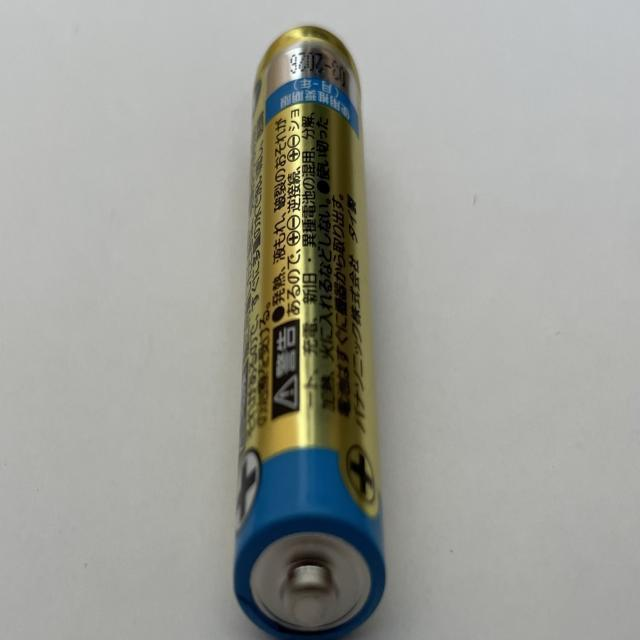AAA: (230, 26, 389, 637)
